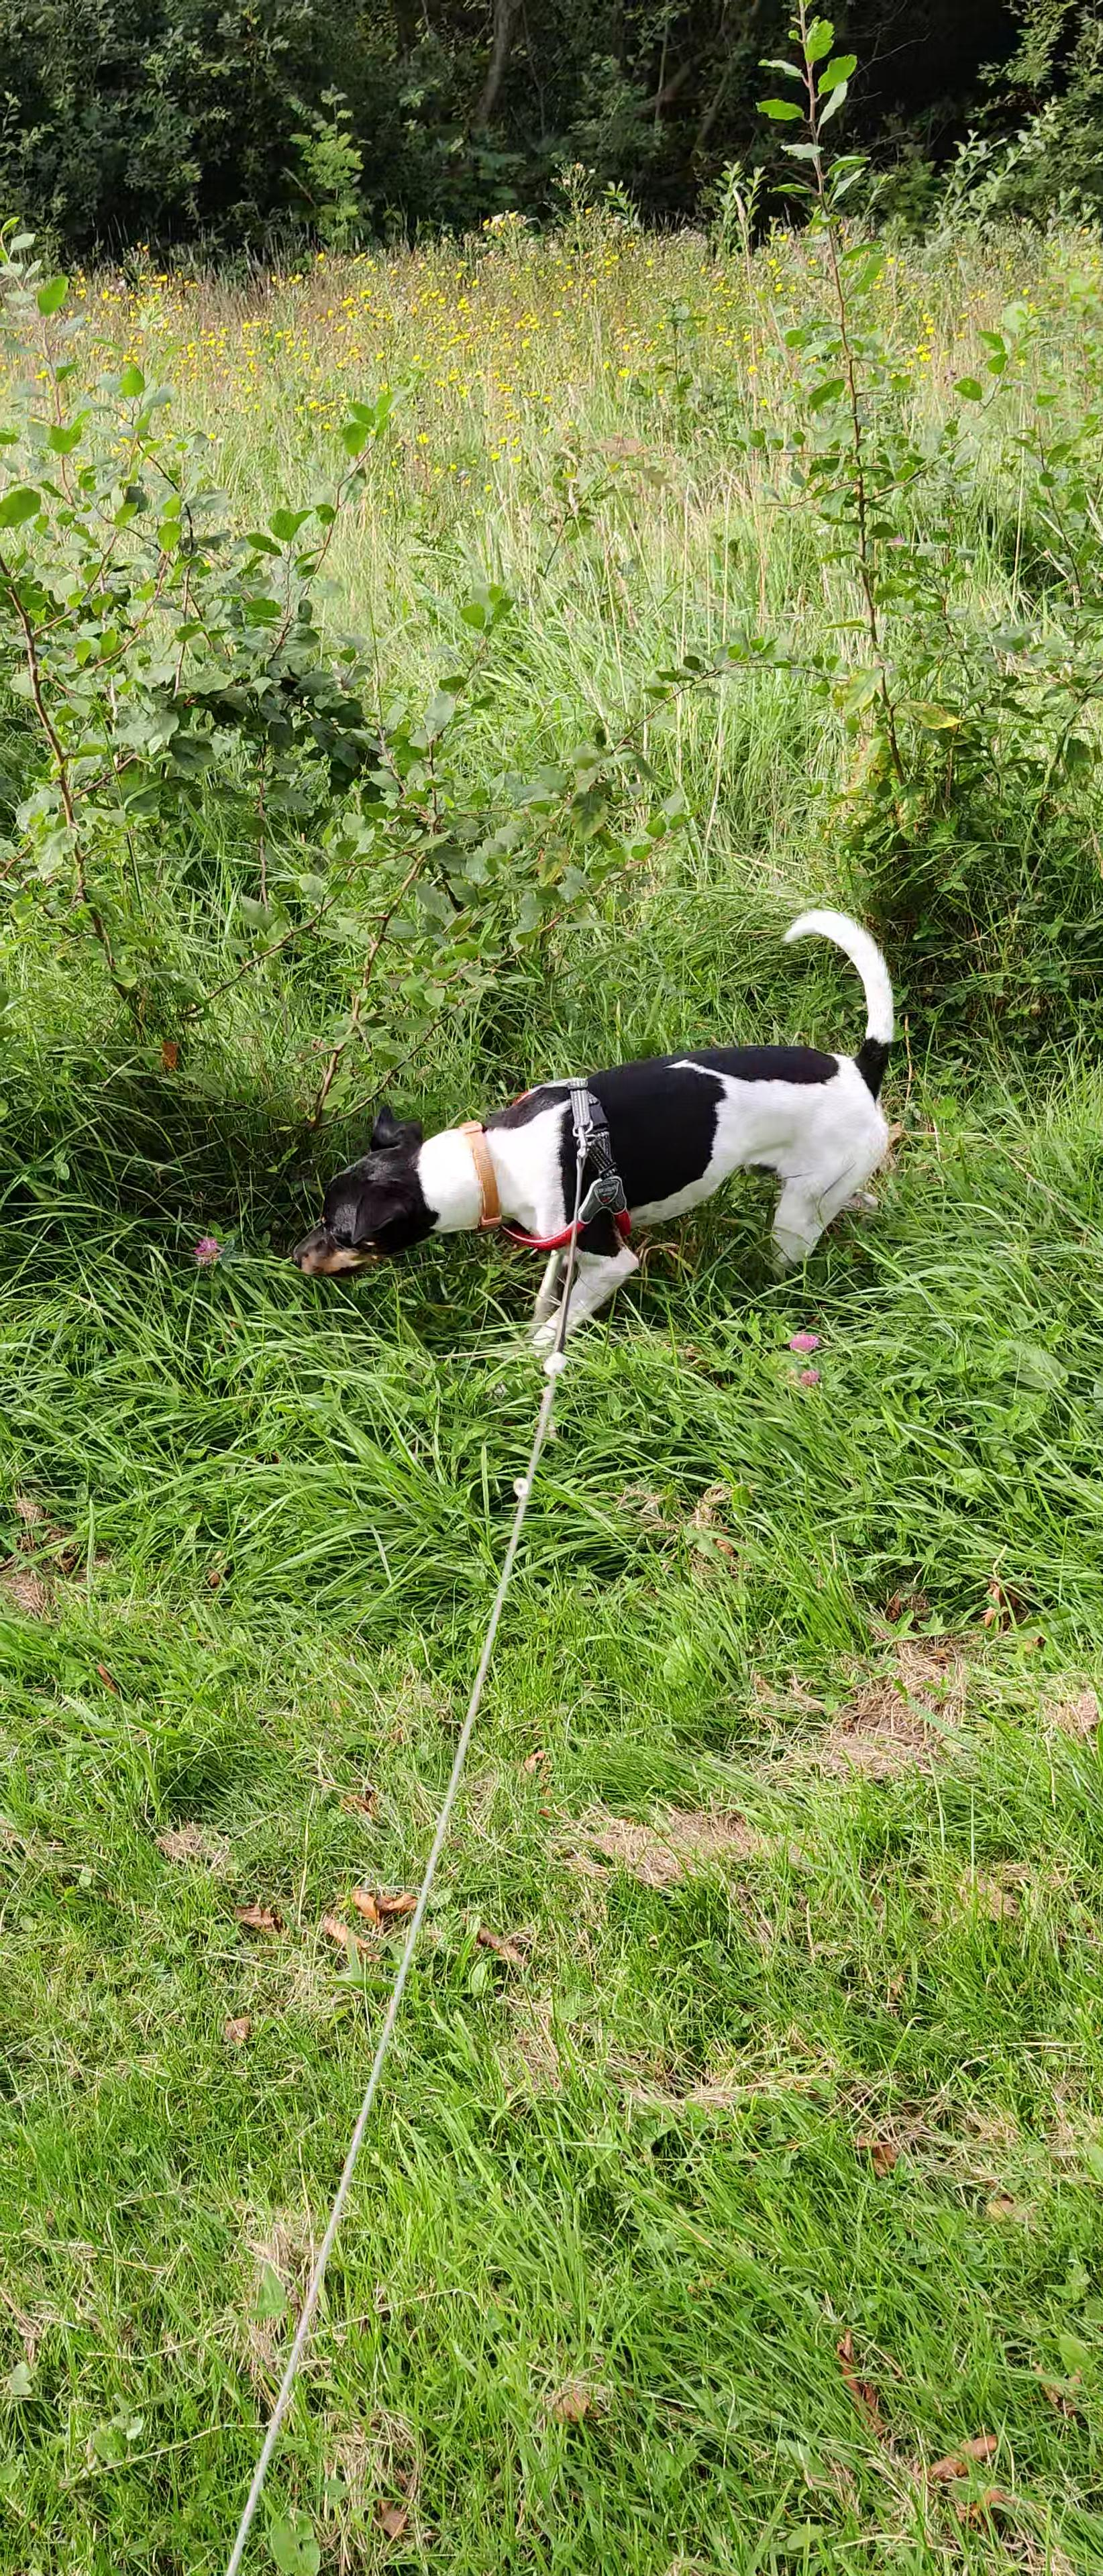Dog: (278, 894, 912, 1350)
